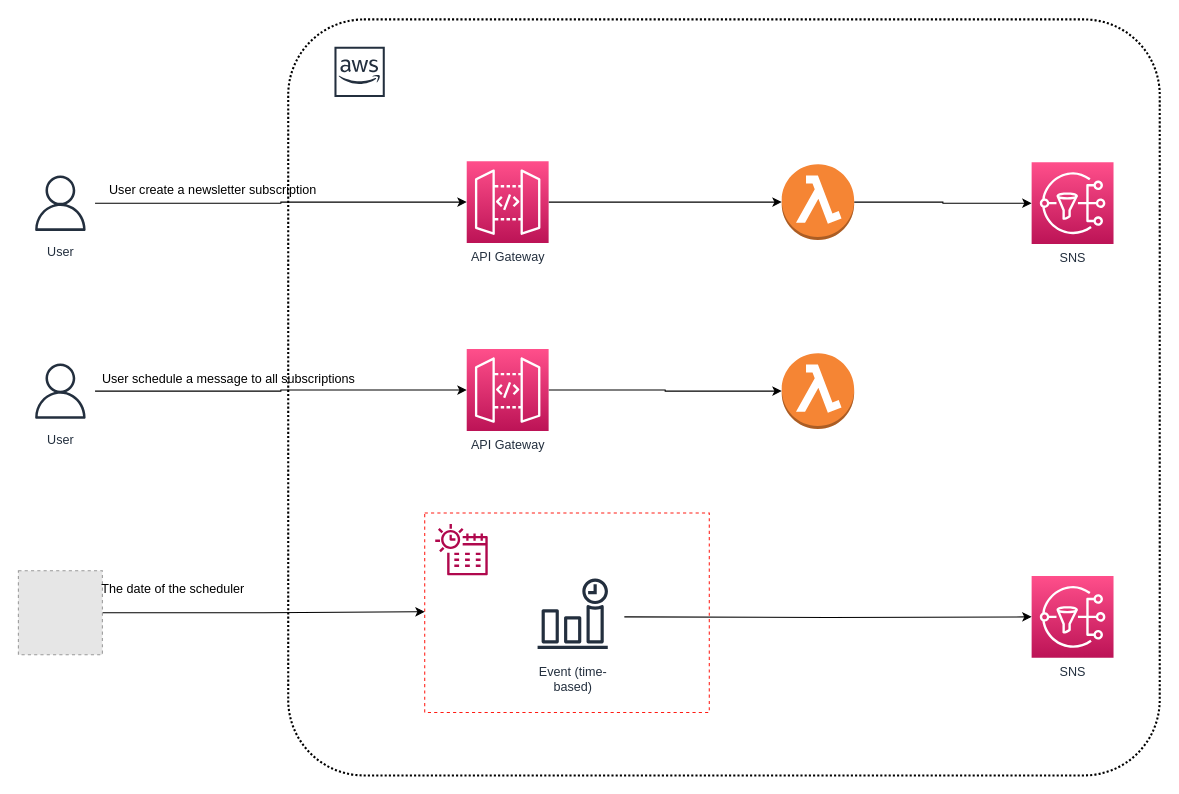
This 1179x794 diagram has some shape labels left out. Grey dashed boxes stand in for pictures. The shapes that lost their labels are listed below. From the top down, each one's centre as x and y in pixels, then its label:
the point at 359,71: AWS Cloud
the point at 817,201: Create a SNS subscription
the point at 817,390: Create a scheduler
